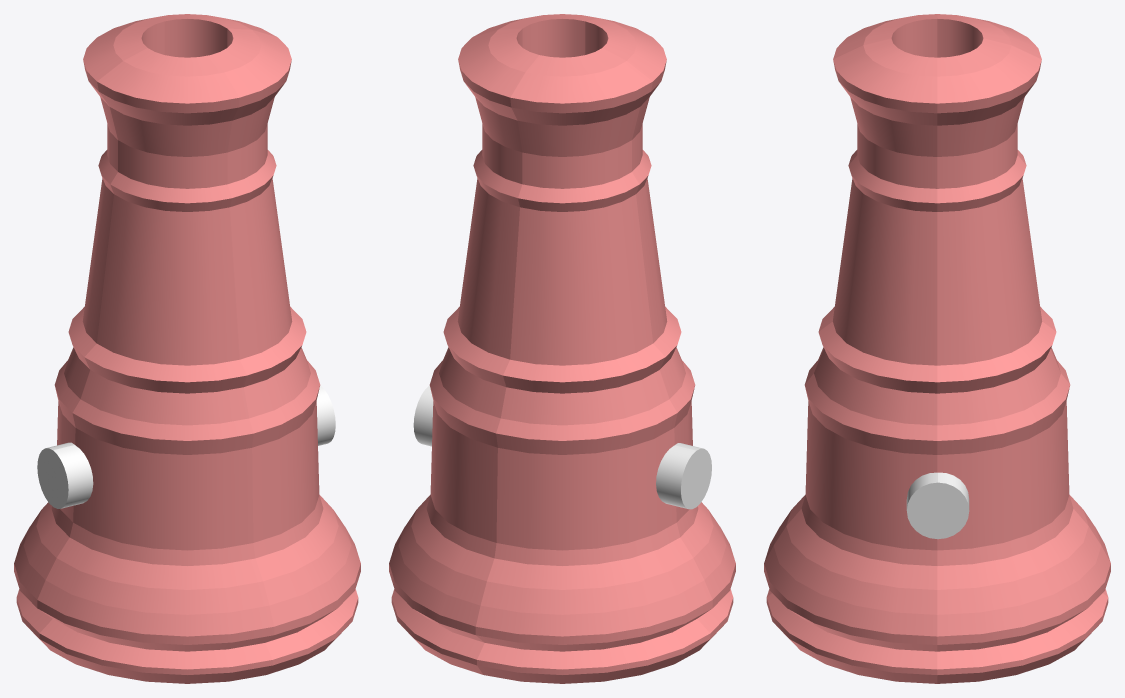
Rendered from cannon.dae.
3 renders of one model, left to right at view 1: azimuth 30°, elevation 25°; view 2: azimuth 150°, elevation 25°; view 3: azimuth 270°, elevation 25°, orthographic.
Parts seen in each view (by area): view 1: SketchUp (×2); view 2: SketchUp (×2); view 3: SketchUp (×2).
Boxes of the visible parts, left/top/right/bottom form: SketchUp (×2): left=14, top=14, right=360, bottom=683; SketchUp (×2): left=389, top=14, right=735, bottom=683; SketchUp (×2): left=764, top=14, right=1110, bottom=683.
Size of the model in its own units: 34.96 by 34.96 by 64.39.
